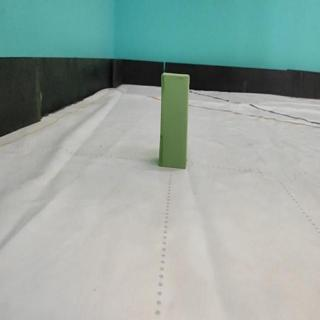greenbox: (159, 69, 190, 169)
